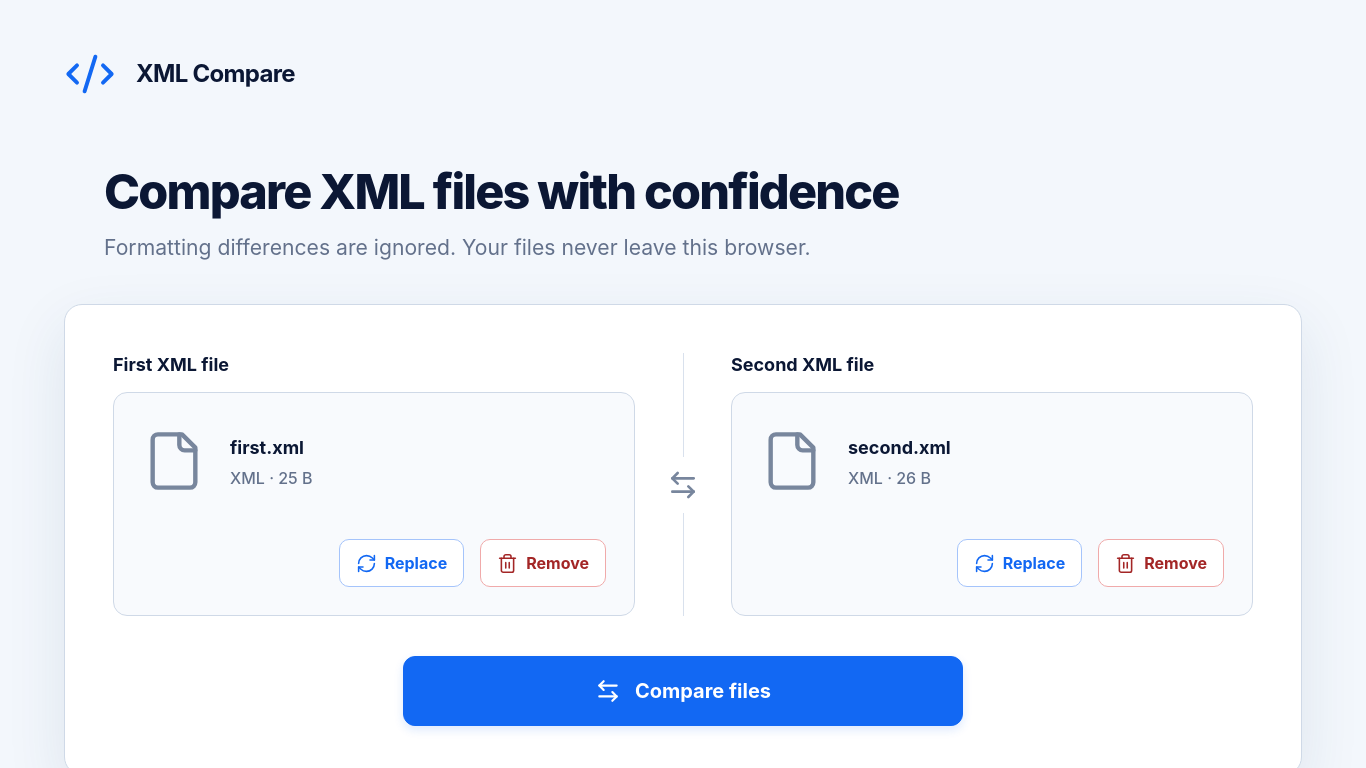
Scenario: XML comparison workflow › shows the first mismatch path, reason, and labeled values
This screenshot has width=1366, height=768.
Earlier steps of the test are not shown.
Click the button "Compare files" at {"x": 683, "y": 691}, box [403,656,963,726]
(page scrolled)
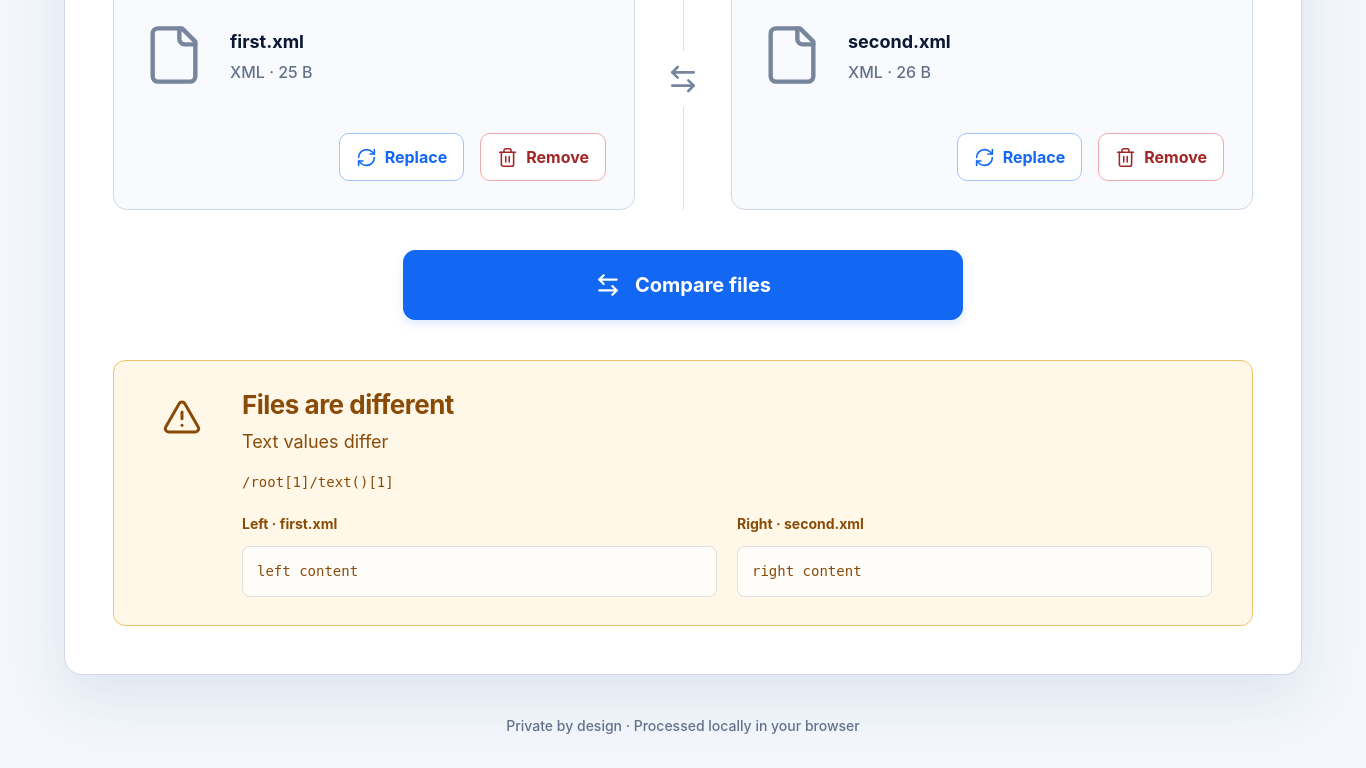
Result: the heading "Files are different" is shown at [242,389,454,420]
Result: the text "/root[1]/text()[1]" is shown at [242,474,394,490]
Result: the text "Text values differ" is shown at [242,431,388,452]
